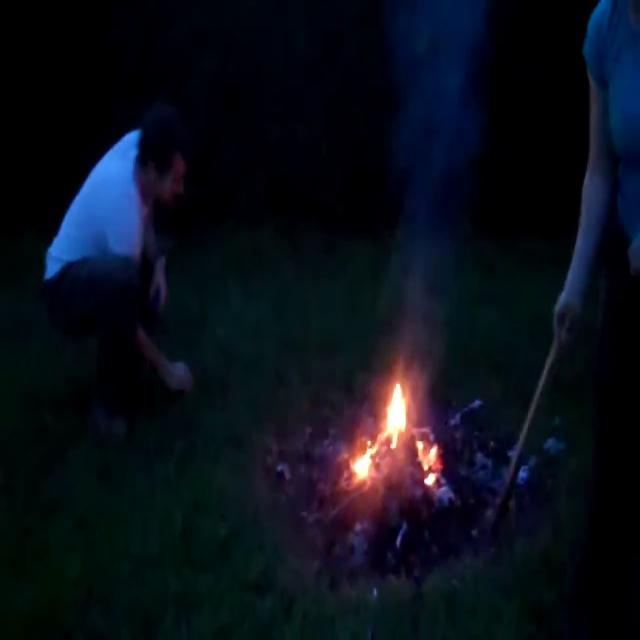Fire: (346, 362, 439, 490)
